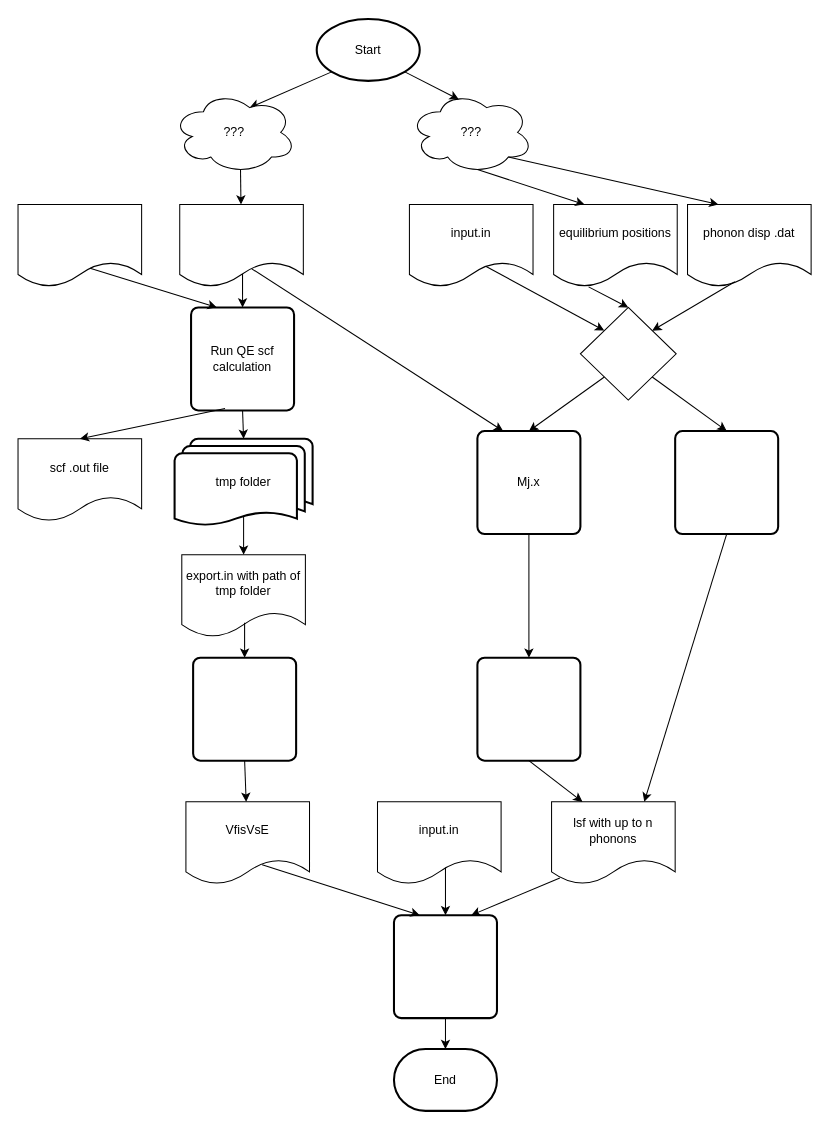
Image size: 829x1129. Some labels were removed from this diagram. The box of each missing label's shape, as (x1, y1, x2, y2) in pixels:
Export_QE-5.3.0.x: (192, 656, 297, 761)
Linear terms?: (579, 306, 676, 400)
LSF0.x: (674, 430, 779, 535)
LSF1.x: (476, 656, 581, 761)
psudopotential: (17, 203, 142, 287)
QE .in: (179, 203, 303, 287)
Sigma: (392, 914, 497, 1019)
